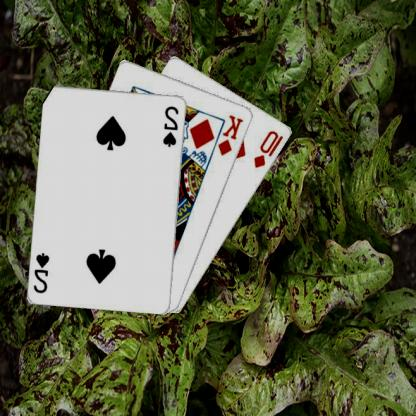10D: (253, 128, 286, 169)
2S: (33, 249, 52, 295), (163, 103, 182, 148)
KD: (217, 112, 246, 157)
